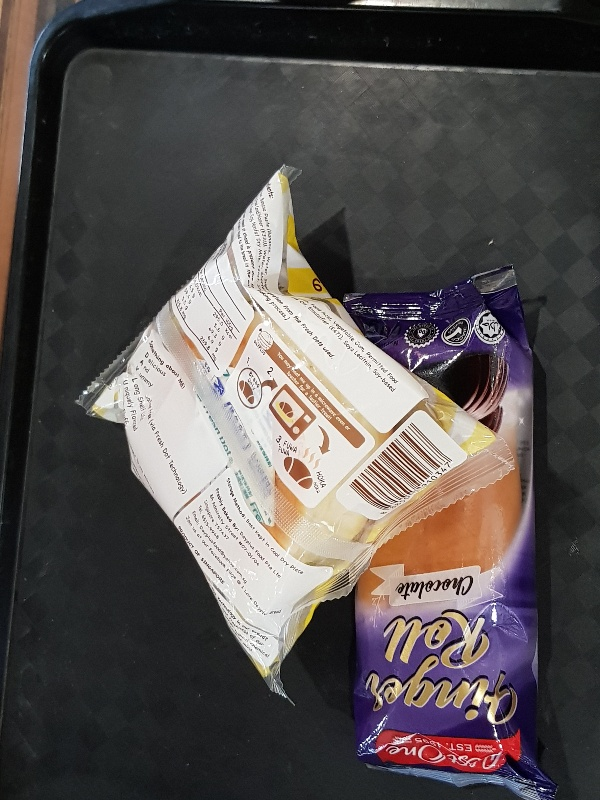Dayplus Banana: (75, 163, 510, 689)
Tinges Roll Chocolate: (339, 262, 557, 800)
